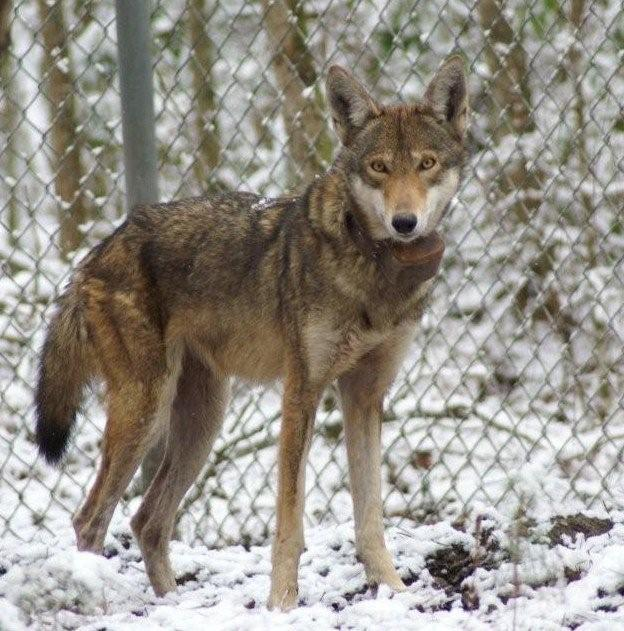Wolf: (29, 47, 468, 607)
